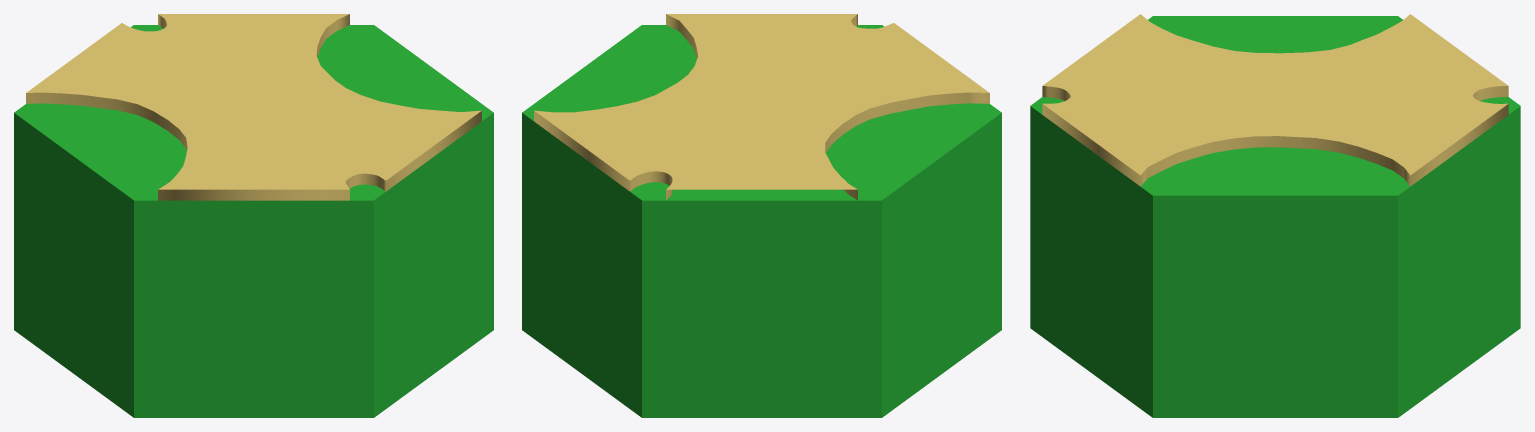
The model's file is tile-infrastructure-pathway_XCrossing_corner.glb.
3 renders of one model, left to right at view 1: azimuth 30°, elevation 25°; view 2: azimuth 150°, elevation 25°; view 3: azimuth 270°, elevation 25°, orthographic. The views are drawn at different scales.
Parts seen in each view (by area): view 1: tile-infrastructure-pathway_xcrossing_corner; view 2: tile-infrastructure-pathway_xcrossing_corner; view 3: tile-infrastructure-pathway_xcrossing_corner.
Part boxes in pixels (<box>): tile-infrastructure-pathway_xcrossing_corner: <box>14,14,493,417</box>; tile-infrastructure-pathway_xcrossing_corner: <box>522,14,1001,417</box>; tile-infrastructure-pathway_xcrossing_corner: <box>1030,14,1520,417</box>.
Bounding box in the file's own units: 0.866 × 0.525 × 1.
